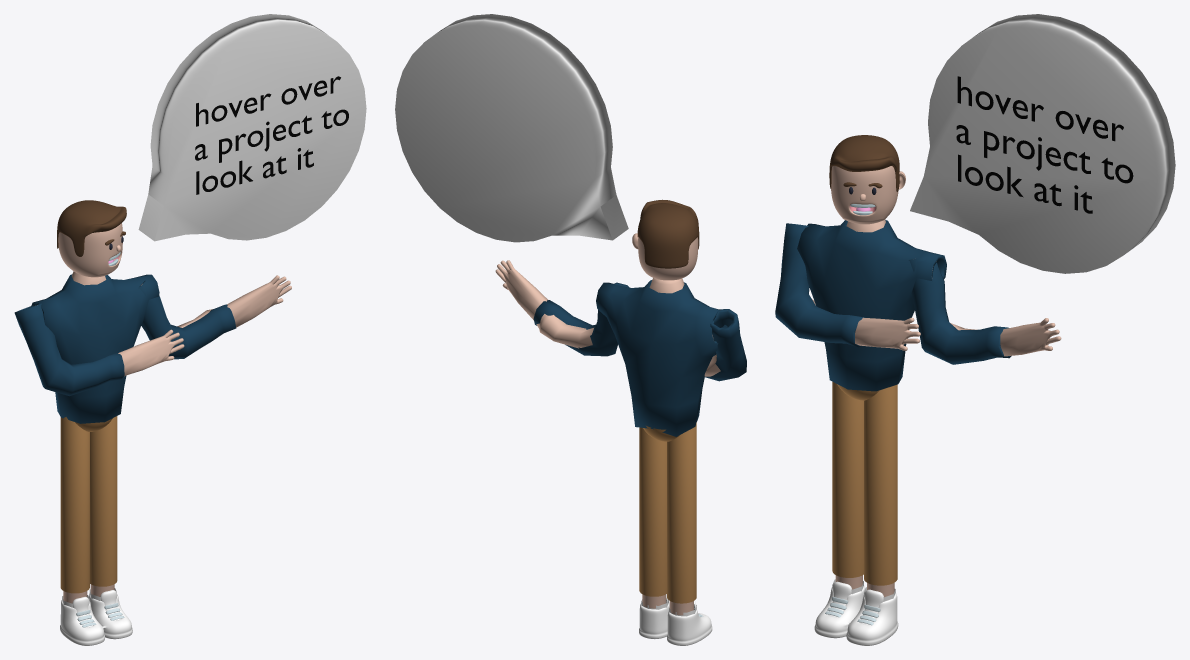
Rendered from speakingPerson.gltf.
3 renders of one model, left to right at view 1: azimuth 30°, elevation 25°; view 2: azimuth 150°, elevation 25°; view 3: azimuth 330°, elevation 25°, orthographic. The views are drawn at different scales.
Parts seen in each view (by area): view 1: speech balloon, jumper, pants, body, Text.001, hair, head, Shoe; view 2: speech balloon, jumper, pants, hair, body, Shoe, head; view 3: speech balloon, jumper, pants, Text.001, body, head, Shoe, hair.
Part boxes in pixels (x1=…): speech balloon: x1=138, y1=14, x2=366, y2=241; jumper: x1=14, y1=274, x2=236, y2=423; pants: x1=60, y1=416, x2=117, y2=603; body: x1=72, y1=271, x2=291, y2=376; Text.001: x1=195, y1=76, x2=348, y2=194; hair: x1=57, y1=200, x2=126, y2=256; head: x1=58, y1=223, x2=122, y2=277; Shoe: x1=60, y1=593, x2=132, y2=645; speech balloon: x1=395, y1=14, x2=628, y2=242; jumper: x1=533, y1=280, x2=746, y2=436; pants: x1=639, y1=422, x2=696, y2=615; hair: x1=637, y1=199, x2=699, y2=268; body: x1=495, y1=260, x2=720, y2=376; Shoe: x1=639, y1=603, x2=712, y2=645; head: x1=638, y1=236, x2=698, y2=280; speech balloon: x1=910, y1=14, x2=1175, y2=273; jumper: x1=775, y1=220, x2=1011, y2=391; pants: x1=832, y1=381, x2=897, y2=597; Text.001: x1=956, y1=76, x2=1133, y2=213; body: x1=812, y1=219, x2=1061, y2=356; head: x1=831, y1=166, x2=898, y2=224; Shoe: x1=814, y1=585, x2=898, y2=645; hair: x1=829, y1=135, x2=899, y2=191.
Bounding box in the file's own units: 1.96 × 3.15 × 0.4349.
